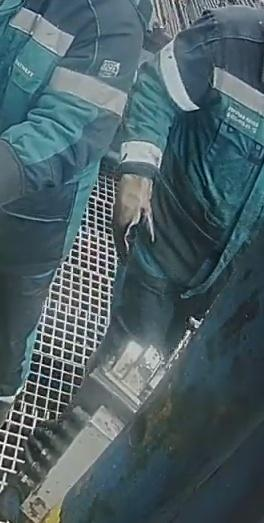gloves: (108, 166, 159, 263)
vest: (142, 5, 263, 282), (0, 0, 142, 227)
